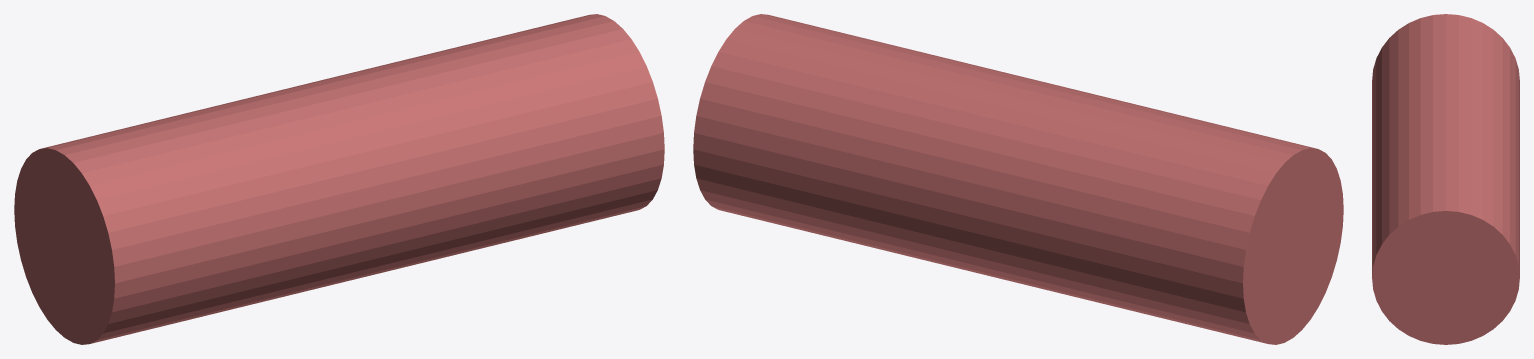
Rendered from W-PIN-M.glb.
3 views of the same model, side by side, from view 1: azimuth 30°, elevation 25°; view 2: azimuth 150°, elevation 25°; view 3: azimuth 270°, elevation 25° (orthographic). The views are drawn at different scales.
Visible parts, largest first — view 1: geometry_0; view 2: geometry_0; view 3: geometry_0.
Boxes of the visible parts, bbox=[...] form: geometry_0: bbox=[14, 14, 664, 344]; geometry_0: bbox=[693, 14, 1343, 344]; geometry_0: bbox=[1372, 14, 1519, 344].
Bounding box in the file's own units: 60 × 19.05 × 19.05.
